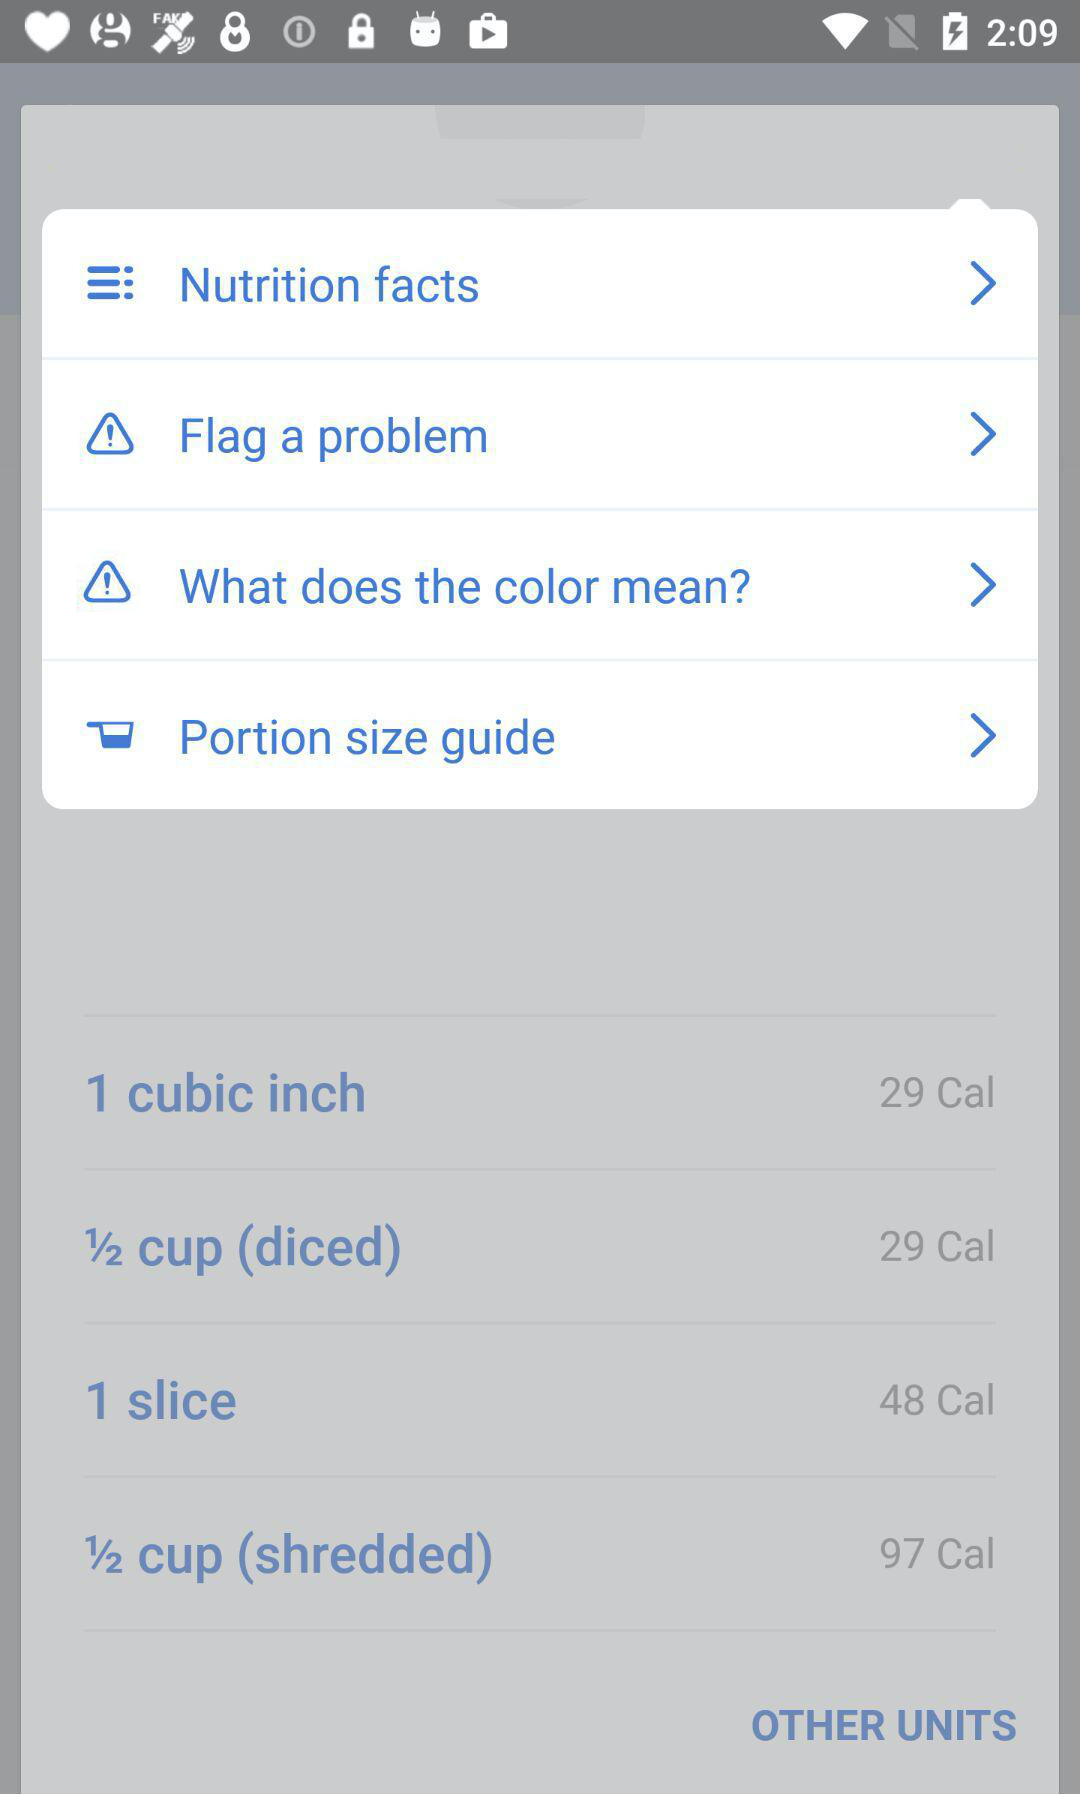Icon: (87, 413, 136, 456), (85, 561, 133, 604), (87, 265, 135, 302), (969, 711, 998, 759), (969, 411, 998, 457), (970, 261, 998, 308), (969, 563, 997, 609)
Image: (87, 721, 136, 750)
Modal: (41, 209, 1039, 812)
Text: (179, 566, 751, 607), (85, 1530, 493, 1586), (181, 718, 556, 766), (85, 1222, 401, 1278), (181, 416, 488, 464), (182, 264, 480, 305), (88, 1071, 366, 1114), (752, 1708, 1017, 1741), (88, 1378, 238, 1421), (879, 1381, 994, 1416), (880, 1229, 994, 1263), (880, 1075, 994, 1108), (880, 1536, 993, 1570)
UpperTaskBar: (1, 1, 1080, 64)
